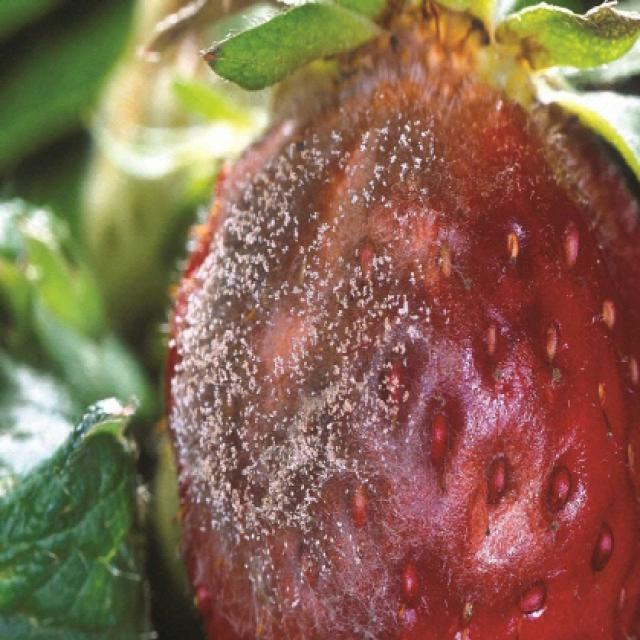Gray Mold: (165, 22, 638, 638)
